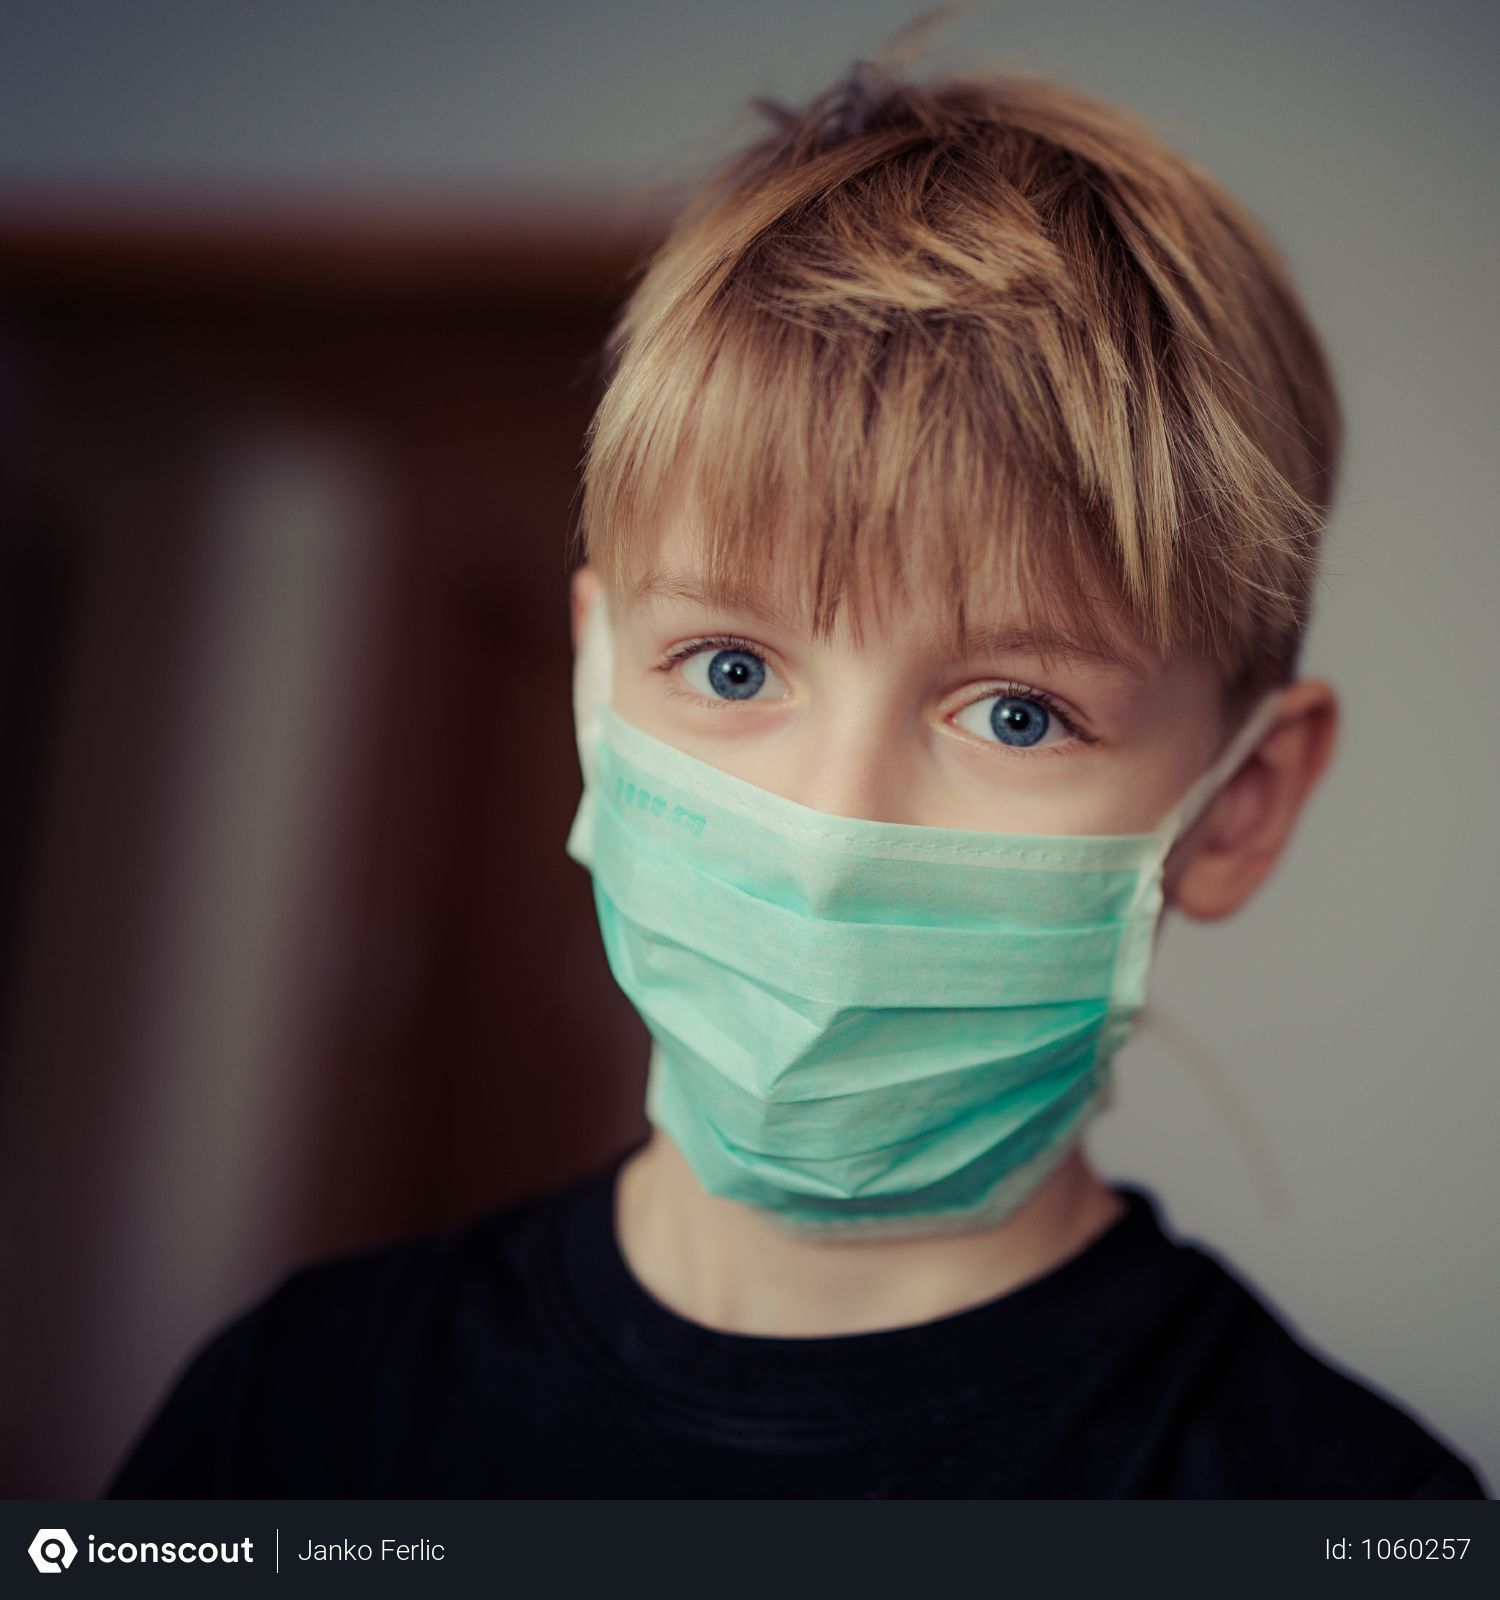surgical: (555, 705, 1205, 1238)
